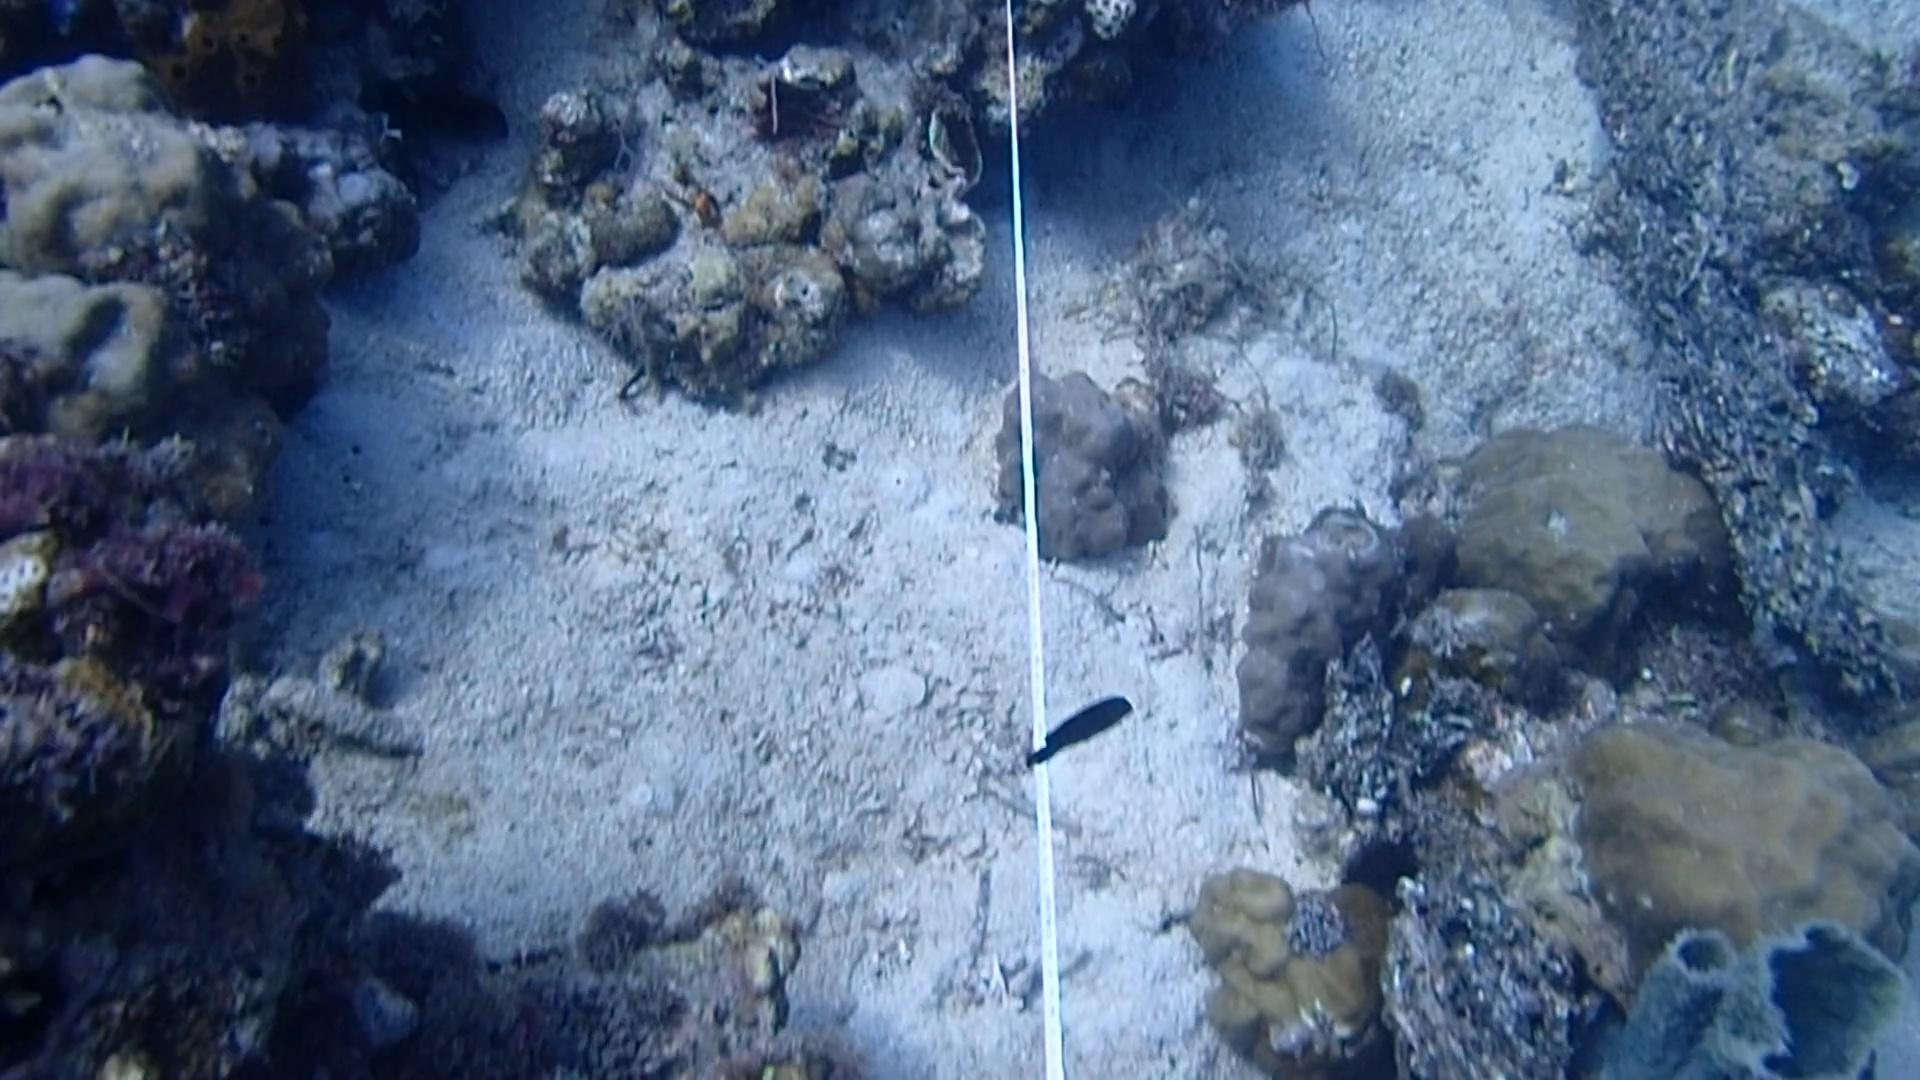Big Dark Blue Fish: (355, 55, 516, 153)
Dark Fish: (1017, 680, 1147, 779)
